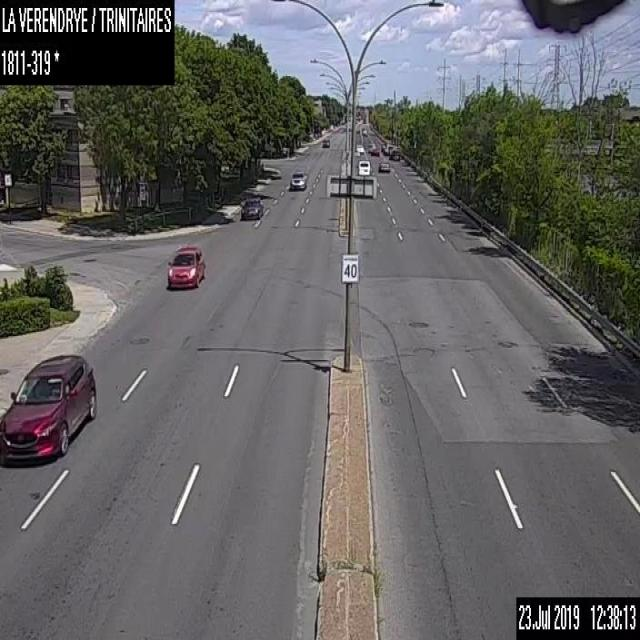vehicle: (0, 350, 96, 464), (166, 241, 203, 288), (238, 197, 263, 220), (289, 169, 307, 190), (355, 158, 371, 174), (377, 156, 390, 172), (384, 144, 396, 155), (389, 148, 400, 159), (366, 142, 376, 152), (355, 143, 364, 153), (380, 141, 390, 150), (370, 147, 379, 155), (322, 137, 329, 146), (361, 129, 367, 136)
